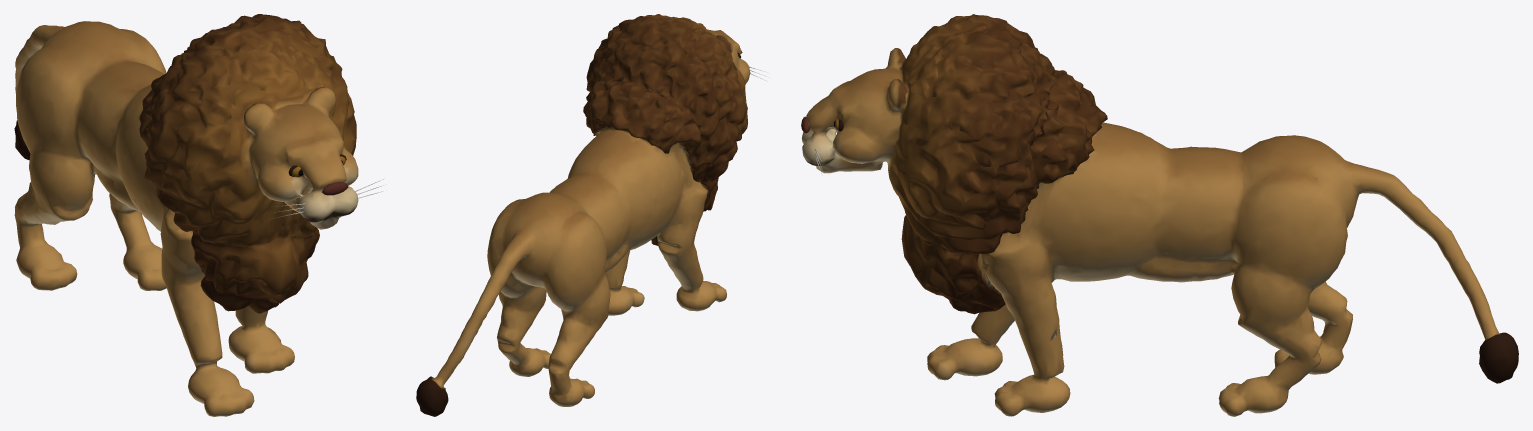
The model's file is Lion.fbx.
3 views of the same model, side by side, from view 1: azimuth 30°, elevation 25°; view 2: azimuth 150°, elevation 25°; view 3: azimuth 270°, elevation 25° (orthographic). The views are drawn at different scales.
Visible parts, largest first — view 1: Lion; view 2: Lion; view 3: Lion.
Boxes of the visible parts, x1,y1,x2,y2 form: Lion: (14, 14, 383, 416); Lion: (416, 14, 767, 416); Lion: (801, 14, 1518, 416).
Size of the model in its own units: 0.7284 by 1.33 by 2.34.
